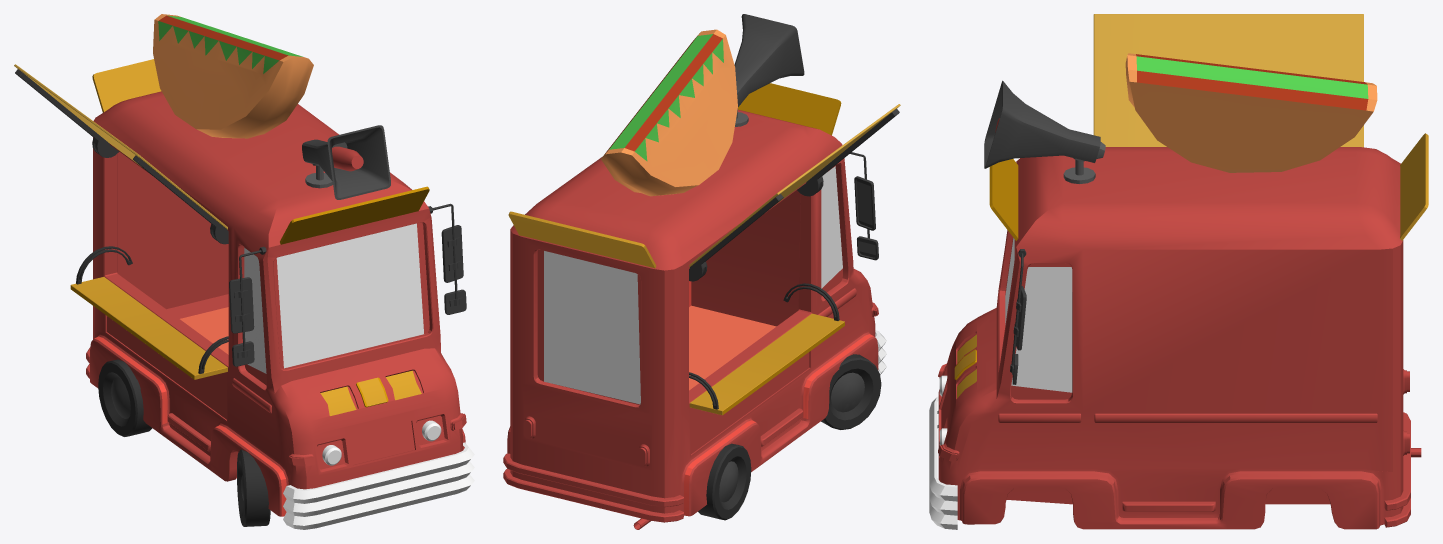
The model's file is Tacotruck.fbx.
3 renders of one model, left to right at view 1: azimuth 30°, elevation 25°; view 2: azimuth 150°, elevation 25°; view 3: azimuth 270°, elevation 25°, orthographic. The views are drawn at different scales.
Parts seen in each view (by area): view 1: Table_truck_0; view 2: Table_truck_0; view 3: Table_truck_0.
Boxes of the visible parts, box(x1,y1,x2,y2) form: Table_truck_0: box(14, 14, 474, 529); Table_truck_0: box(503, 14, 900, 529); Table_truck_0: box(929, 14, 1428, 529).
Size of the model in its own units: 299 by 405 by 408.
